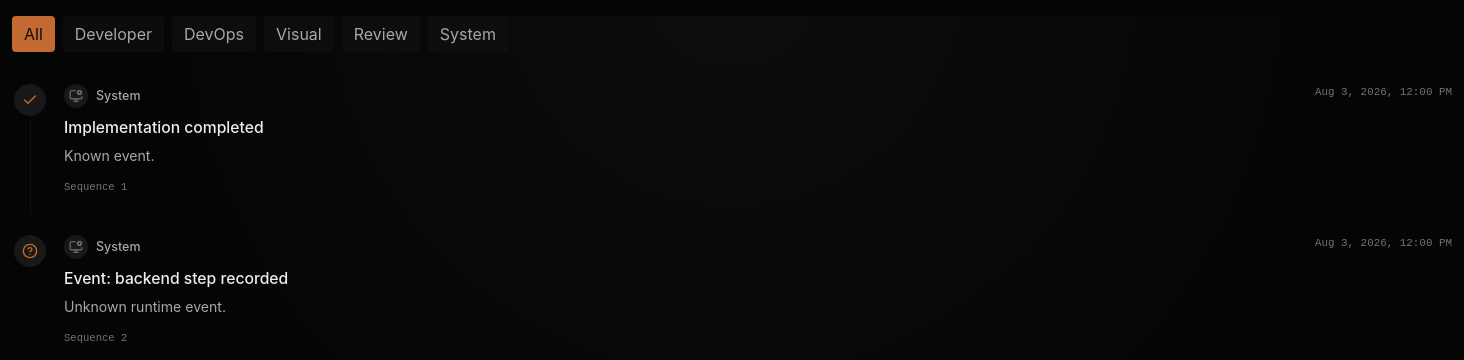
Test: activity timeline filters › does not assign unknown runtime event types to a category filter
Click the button "Developer" at (113,34), box [63,16,164,52]
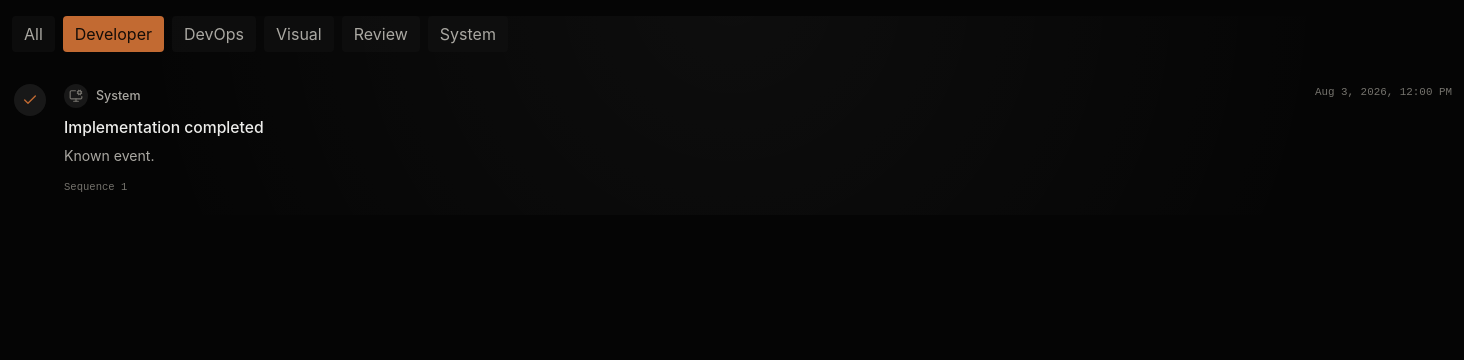
Expected: the text "Unknown runtime event." is gone
Click the button "System" at (468,34), box [428,16,508,52]
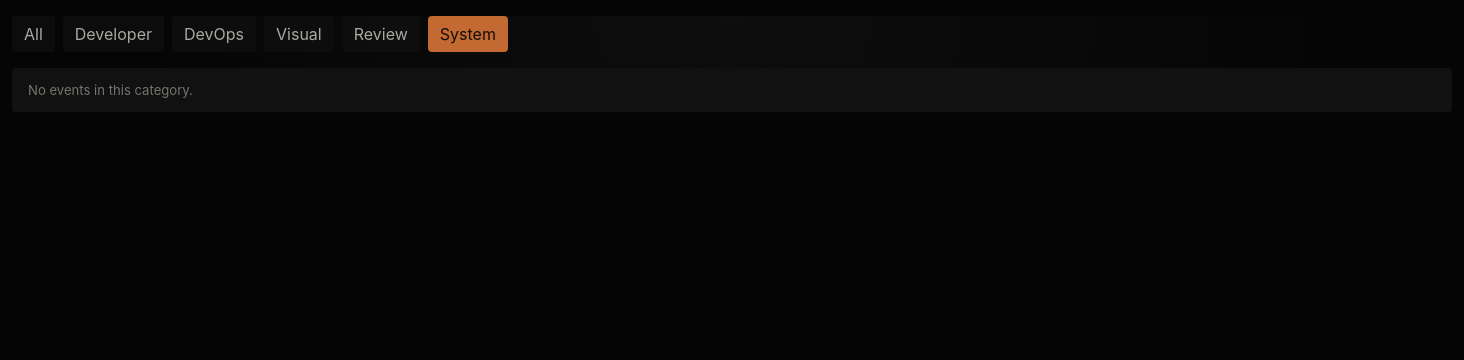
Expected: the text "Unknown runtime event." is not shown
Expected: the text "No events in this category." is shown, [12,68,1452,112]
